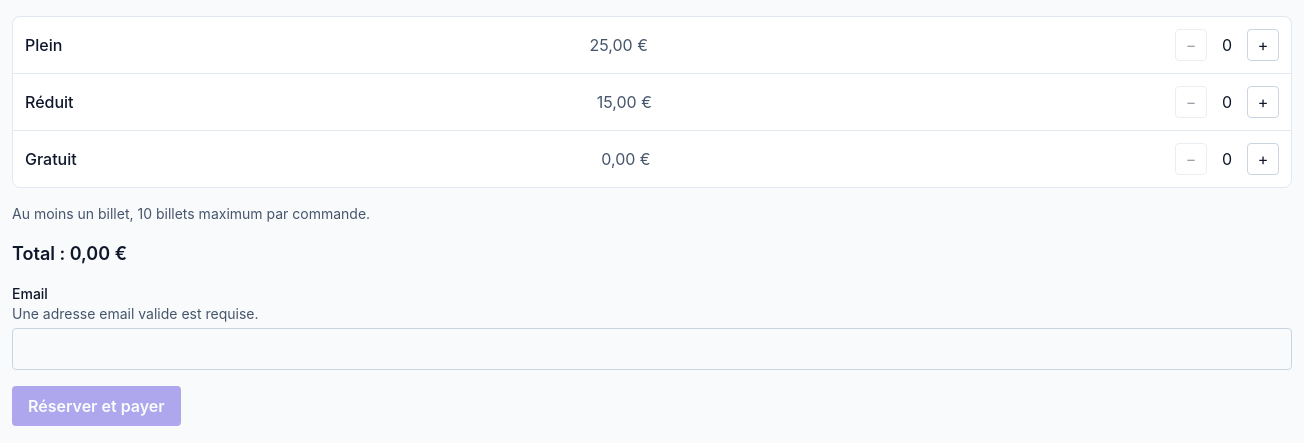
Test case: OrderForm › does not go below zero for a tier
Expected: the button named "Retirer un billet Plein" is disabled, [1175, 29, 1207, 61]
Click the button named "Ajouter un billet Plein": (1263, 45) [1247, 29, 1279, 61]
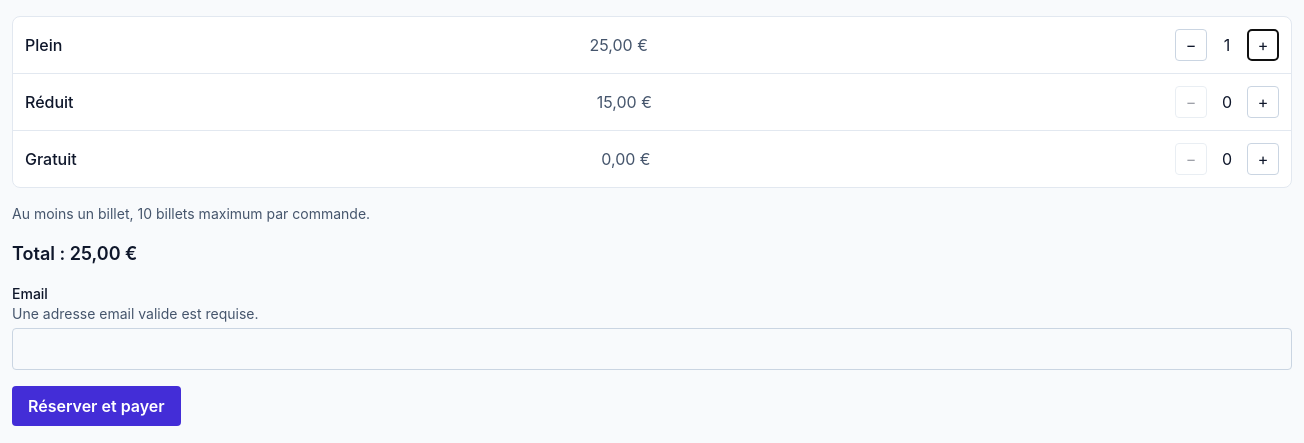
Click the button named "Retirer un billet Plein": (1191, 45) [1175, 29, 1207, 61]
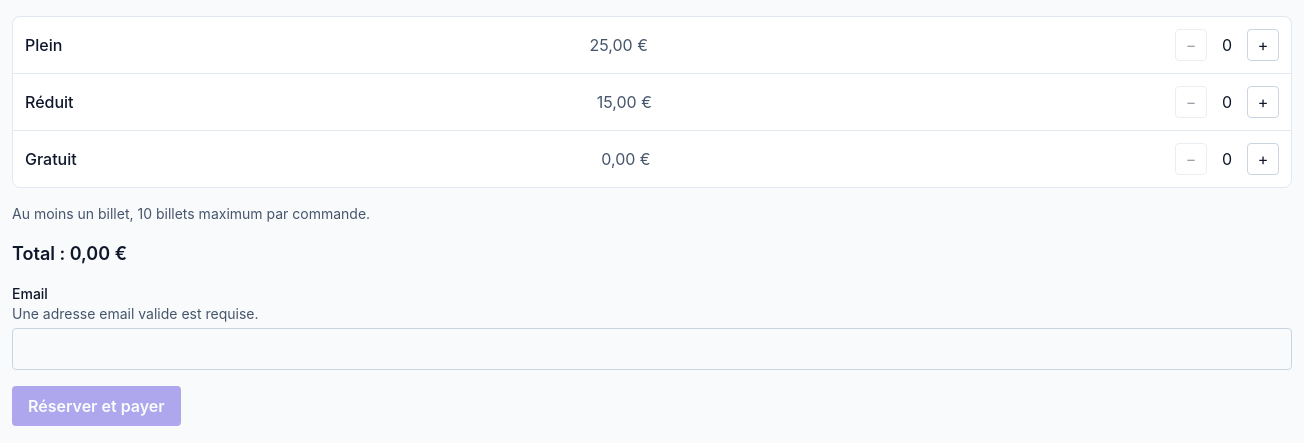
Expected: the text named "Quantité Plein" reads "0", [1222, 35, 1232, 55]
